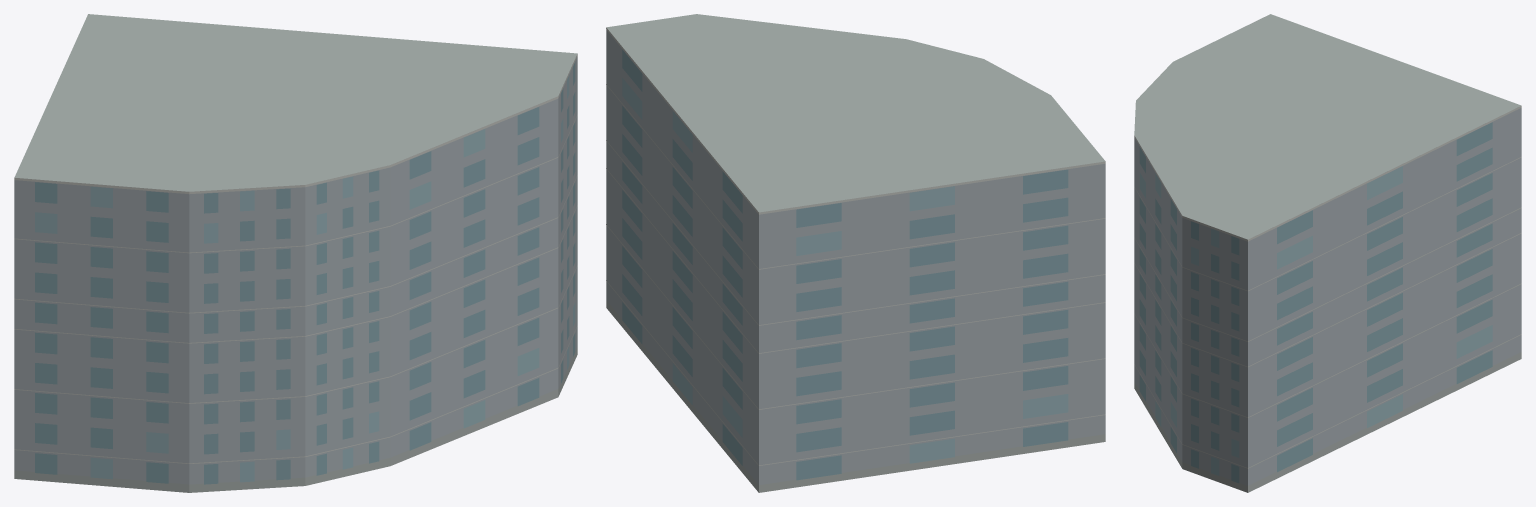
File: residential-58d8d24d-8a09-4230-aa5c-8f32c1045897.glb
3 renders of one model, left to right at view 1: azimuth 30°, elevation 25°; view 2: azimuth 150°, elevation 25°; view 3: azimuth 270°, elevation 25°, orthographic. The views are drawn at different scales.
Parts seen in each view (by area): view 1: residential-58d8d24d-8a09-4230-aa5c-8f32c1045897.tmp; view 2: residential-58d8d24d-8a09-4230-aa5c-8f32c1045897.tmp; view 3: residential-58d8d24d-8a09-4230-aa5c-8f32c1045897.tmp.
Part boxes in pixels (x1=…): residential-58d8d24d-8a09-4230-aa5c-8f32c1045897.tmp: x1=14, y1=14, x2=577, y2=492; residential-58d8d24d-8a09-4230-aa5c-8f32c1045897.tmp: x1=606, y1=14, x2=1105, y2=492; residential-58d8d24d-8a09-4230-aa5c-8f32c1045897.tmp: x1=1134, y1=14, x2=1521, y2=492.
Bounding box in the file's own units: 58.29 × 30.5 × 42.3.
